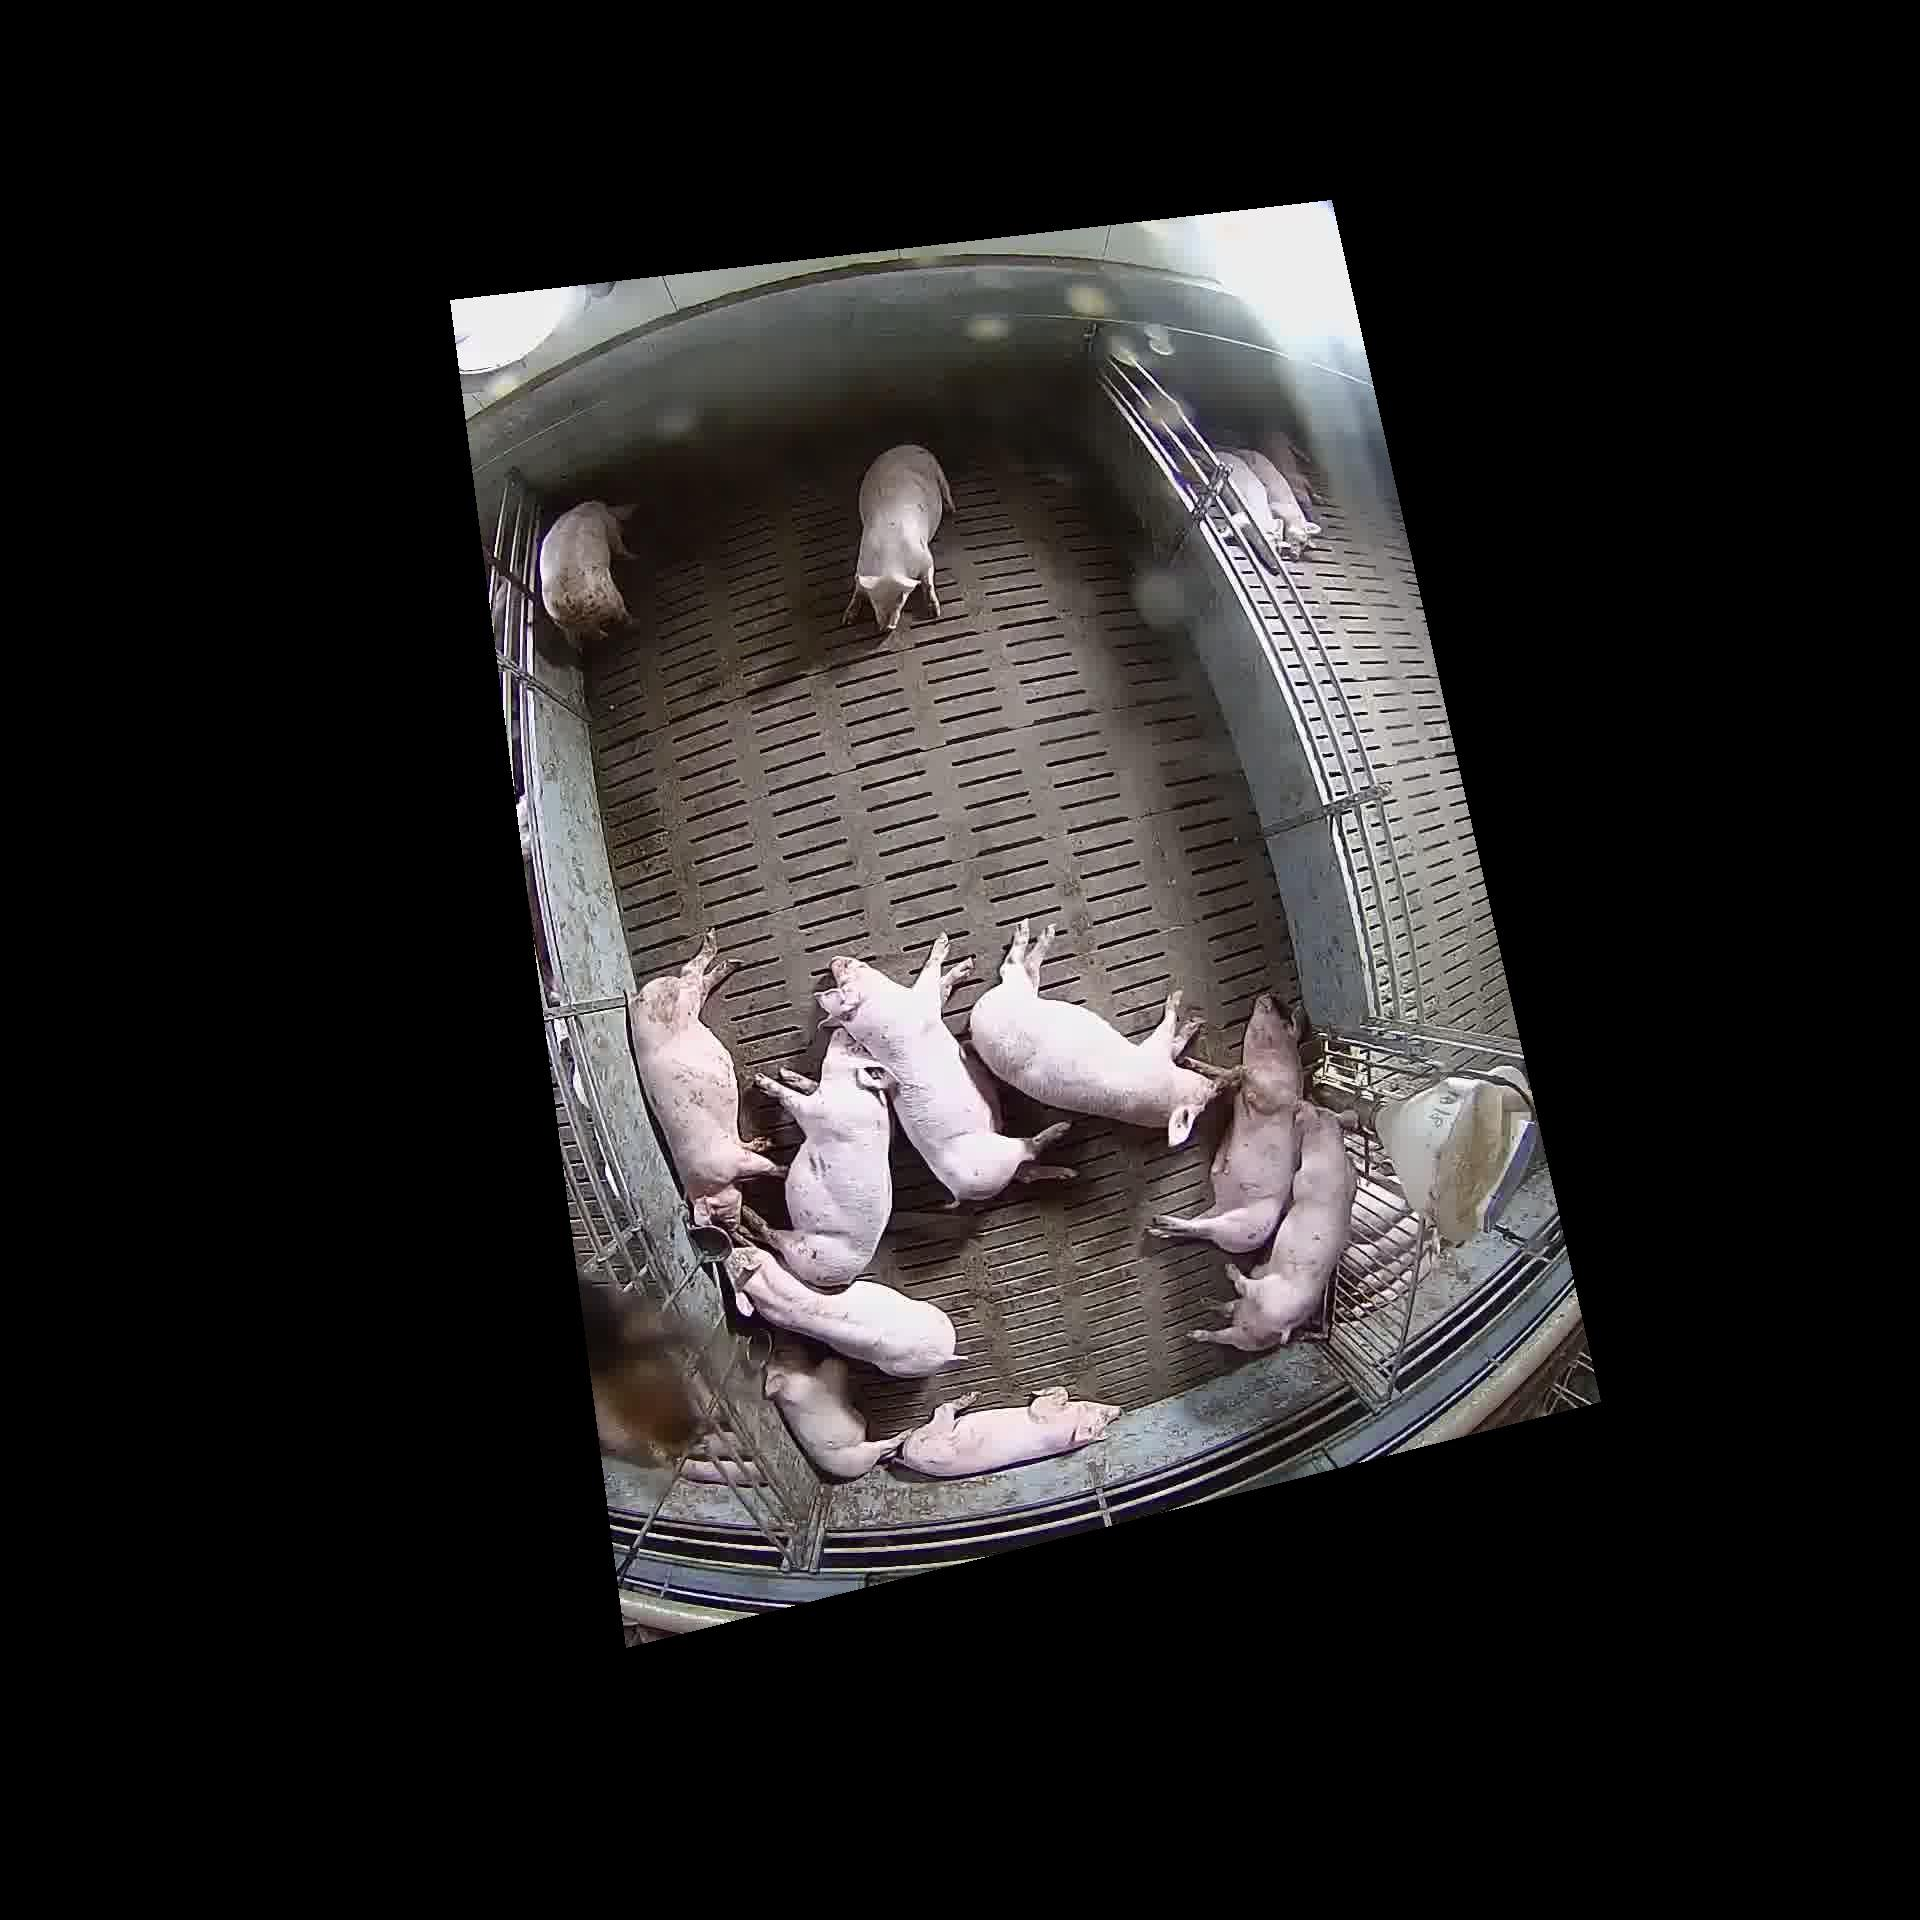pig: (812, 932, 1078, 1208), (958, 918, 1225, 1148), (624, 927, 788, 1231), (1185, 1099, 1357, 1350), (738, 1029, 898, 1287), (1146, 993, 1306, 1252), (723, 1233, 969, 1377), (842, 445, 956, 629), (893, 1385, 1120, 1477), (765, 1340, 914, 1477), (538, 489, 647, 651)
